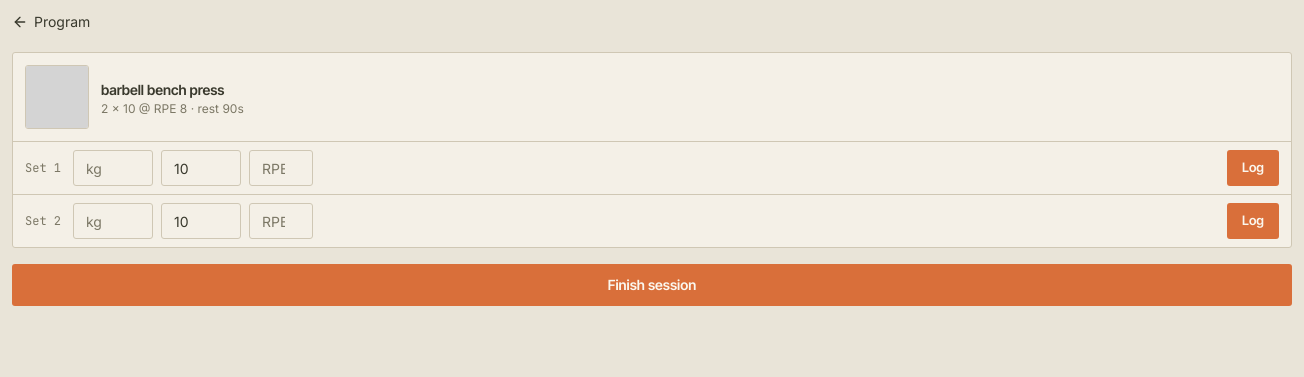
Test: SessionRunner (M4) › logs a set and starts the rest timer
Expected: the link "barbell bench press" is shown, [101,81,224,98]
Type "40" into the number field named "set 1 weight" at (113, 168), box [73,150,153,186]
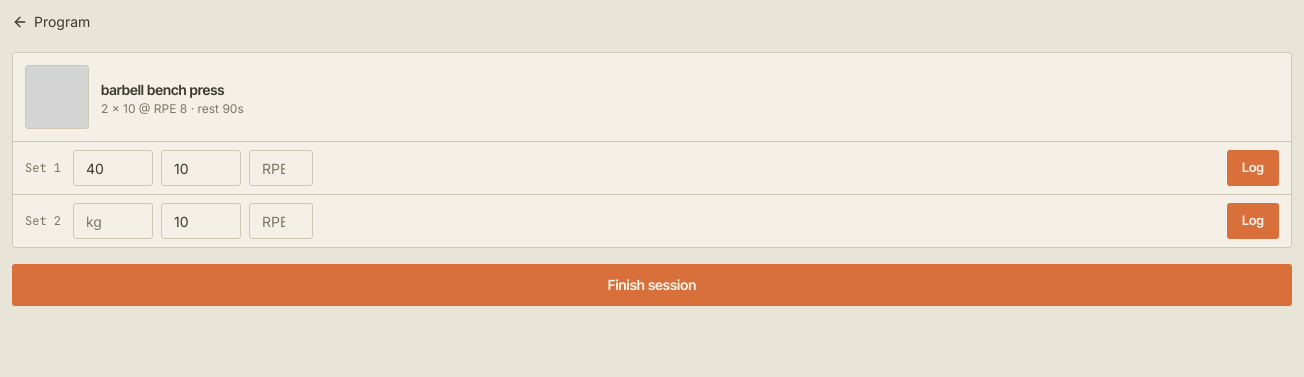
Click the 1st button "Log" at (1253, 168), box [1227,150,1279,186]
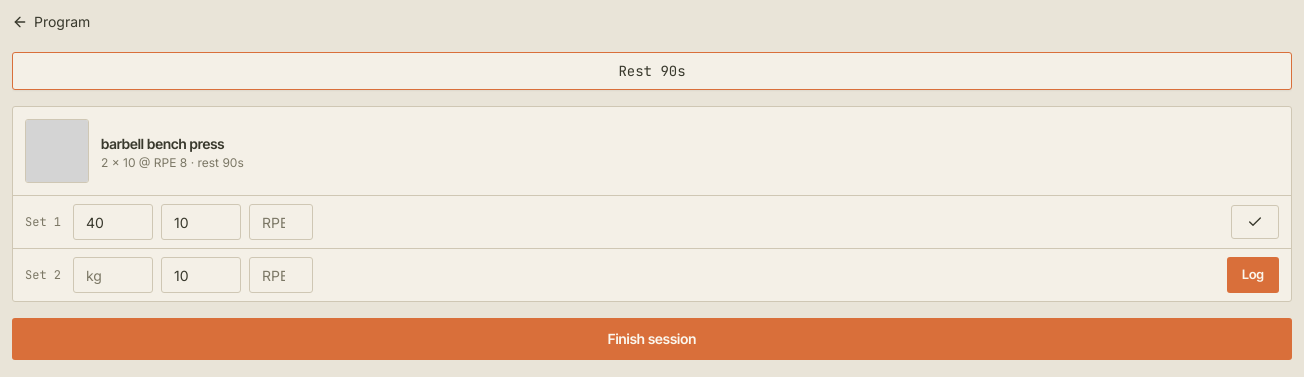
Expected: the text "Rest 90s" is shown, [12,52,1292,90]
